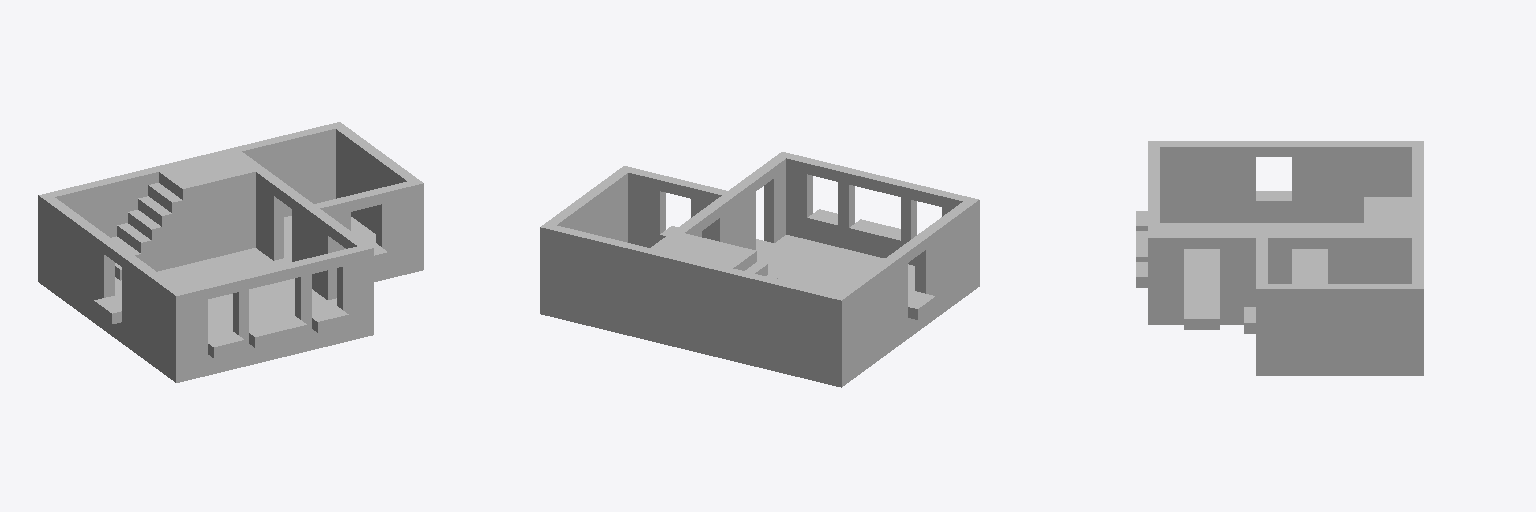
Rendered from house.vox-3-1st floor.obj.
The picture shows the model from 3 angles: view 1: azimuth 30°, elevation 25°; view 2: azimuth 150°, elevation 25°; view 3: azimuth 270°, elevation 25°; orthographic projection.
Parts seen in each view (by area): view 1: 1st floor; view 2: 1st floor; view 3: 1st floor.
Boxes of the visible parts, box(x1,y1,x2,y2) form: 1st floor: box(38, 122, 423, 382); 1st floor: box(540, 152, 979, 387); 1st floor: box(1136, 141, 1423, 375).
Bounding box in the file's own units: 3 × 0.8 × 2.4.